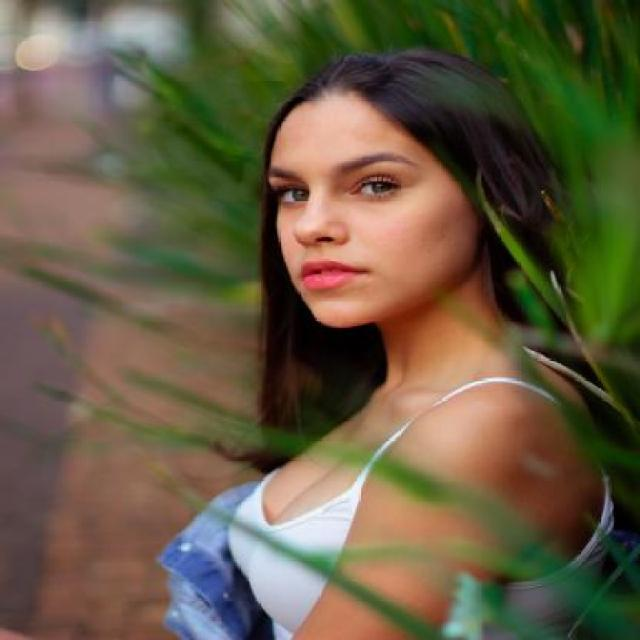closed-mouth: (290, 256, 376, 295)
